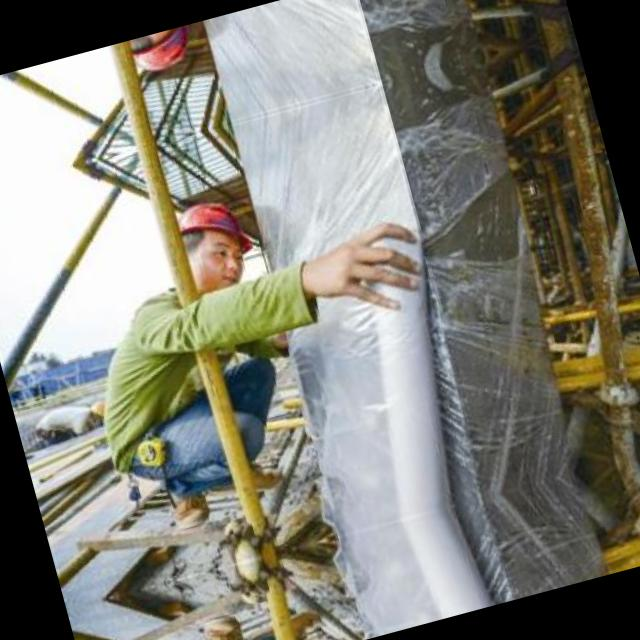helmet: (156, 181, 266, 303), (114, 21, 211, 90)
